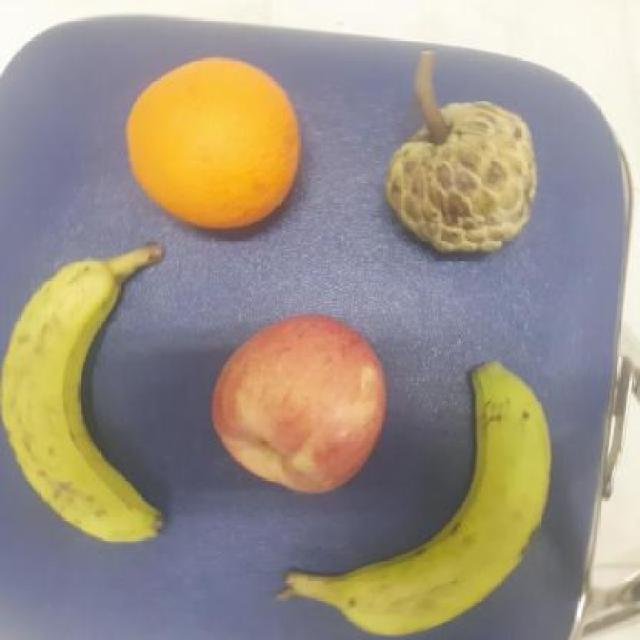apple: (208, 306, 388, 499)
banana: (271, 357, 555, 640), (1, 238, 164, 540)
oren: (120, 56, 302, 230)
sugar apple: (380, 96, 542, 256)
